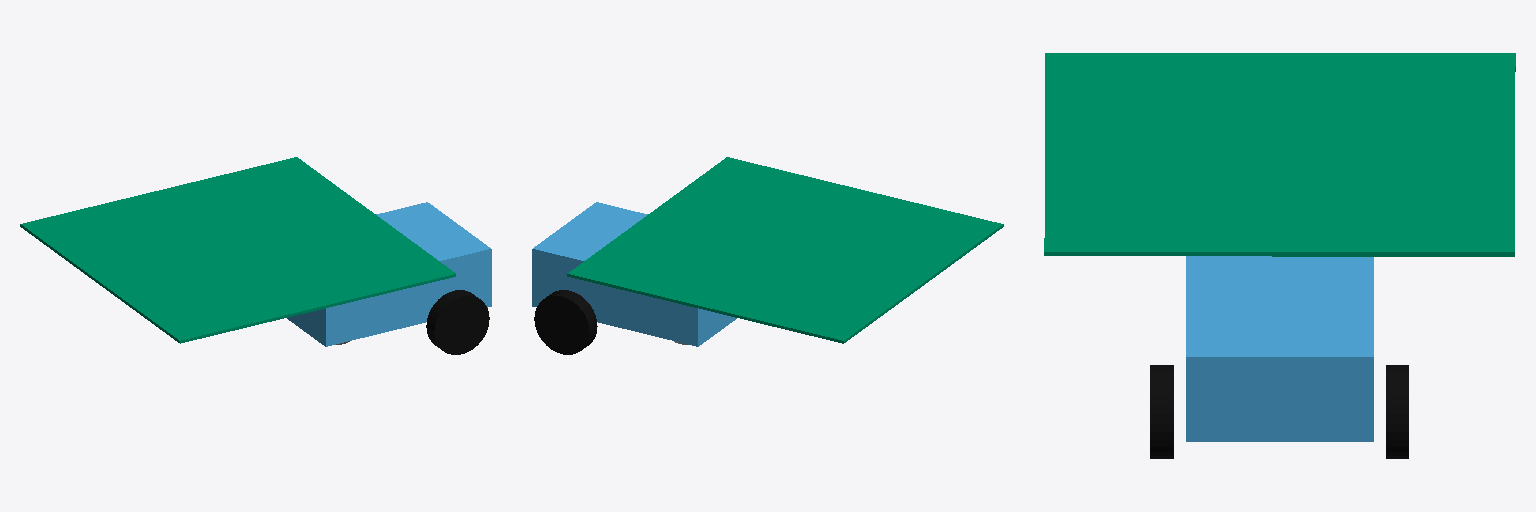
URDF robot description (simple_bot):
<?xml version="1.0"?>
<robot name="simple_bot" xmlns:xacro="http://ros.org/wiki/xacro">

  <!-- Materials -->
  <material name="red">
    <color rgba="0.6 0.0 0.0 1"/>
  </material>
  <material name="black">
    <color rgba="0.1 0.1 0.1 1"/>
  </material>
  <material name="grey">
    <color rgba="0.5 0.5 0.5 1"/>
  </material>

  <!-- Links -->
  <link name="aruco_base_descr"/>
  <link name="aruco_base_link">
  <visual>
    <geometry>
      <box size="0.6 0.4 0.2"/>
    </geometry>

    <origin xyz="0.0 0.0 0.0" rpy="0.0 0.0 0.0"/>
  </visual>

  <collision>
    <geometry>
      <box size="0.6 0.4 0.2"/>
    </geometry>
    <origin xyz="0.0 0.0 0.0" rpy="0.0 0.0 0"/>
  </collision>

  <inertial>
    <mass value="5.0"/>
    <origin xyz="0 0 0" rpy="0 0 0"/>
    <inertia 
      ixx="0.1" ixy="0.0" ixz="0.0"
      iyy="0.1" iyz="0.0"
      izz="0.1"/>
  </inertial>
</link>

<link name="aruco_marker_panel">
  <visual>
    <geometry>
      <box size="0.01 1 1"/> <!-- a thin square -->
    </geometry>
    <origin xyz="0.3 0.0 0.1" rpy="0 1.57 0"/> <!-- adjust side & rotation -->
  </visual>
</link>

<gazebo reference="aruco_marker_panel">
  <material>
    <script>
      <uri>file://[local-path]/rostasks/task3_part1/install/task3_part1_bot/share/task3_part1_bot/world/</uri>
      <name>aruco_marker_0</name>
    </script>
  </material>
</gazebo>

<joint name="aruco_marker_joint" type="fixed">
  <parent link="aruco_base_link"/>
  <child link="aruco_marker_panel"/>
  <origin xyz="0.2 0.0 0.1" rpy="0 0 0"/>
</joint>

  <link name="aruco_left_wheel">
    <visual>
      <geometry>
        <cylinder length="0.05" radius="0.1"/>
      </geometry>
      <origin xyz="0 0 0" rpy="0 0 0"/>
      <material name="black"/>
    </visual>
    <collision>
    <geometry>
      <cylinder radius="0.1" length="0.05"/>
    </geometry>
    <origin xyz="0.0 0.0 0.0" rpy="0.0 0.0 0"/>
  </collision>
  <inertial>
    <mass value="0.5"/>
    <origin xyz="0 0 0" rpy="0 0 0"/>
    <inertia 
      ixx="0.1" ixy="0.0" ixz="0.0"
      iyy="0.1" iyz="0.0"
      izz="0.1"/>
  </inertial>
  </link>

  <link name="aruco_right_wheel">
    <visual>
      <geometry>
        <cylinder length="0.05" radius="0.1"/>
      </geometry>
      <origin xyz="0 0 0" rpy="0.0 0 0"/>
      <material name="black"/>
    </visual>
    <collision>
    <geometry>
      <cylinder radius="0.1" length="0.05"/>
    </geometry>
    <origin xyz="0.0 0.0 0.0" rpy="0.0 0.0 0"/>
  </collision>

  <inertial>
    <mass value="2.0"/>
    <origin xyz="0 0 0" rpy="0 0 0"/>
    <inertia 
      ixx="0.1" ixy="0.0" ixz="0.0"
      iyy="0.1" iyz="0.0"
      izz="0.1"/>
  </inertial>
  </link>
  

  <link name="aruco_caster_wheel">
    <visual>
      <geometry>
        <sphere radius="0.1"/>
      </geometry>
      <material name="grey"/>
    </visual>
    <collision>
    
    <geometry>
      <sphere radius="0.1"/>
    </geometry>
  </collision>

  <inertial>
    <mass value="0.05"/>
    <origin xyz="0 0 0" rpy="0 0 0"/>
    <inertia 
      ixx="0.1" ixy="0.0" ixz="0.0"
      iyy="0.1" iyz="0.0"
      izz="0.1"/>
  </inertial>
  </link>

  <!-- Joints -->
  <joint name="aruco_left_wheel_joint" type="continuous">
    <parent link="aruco_base_link"/>
    <child link="aruco_left_wheel"/>
    <origin xyz="-0.15 0.25 -0.1" rpy="1.57 0 3.141"/>
    <axis xyz="0.0 0.0 1"/>
  </joint>

  <joint name="aruco_right_wheel_joint" type="continuous">
    <parent link="aruco_base_link"/>
    <child link="aruco_right_wheel"/>
    <origin xyz="-0.15 -0.25 -0.1" rpy="1.57 0 3.141"/>
    <axis xyz="0.0 0.0 1"/>
  </joint>

  <joint name="aruco_caster_wheel_joint" type="fixed">
  <parent link="aruco_base_link"/>
  <child link="aruco_caster_wheel"/>
  <origin xyz="0.15 0 -0.1" rpy="0 0 0.0"/>
  </joint>

  <joint name="aruco_base" type="fixed">
    <parent link="aruco_base_descr"/>
    <child link="aruco_base_link"/>
    <origin rpy="0.0 0.0 3.141"/>
  </joint>

  <gazebo reference="aruco_right_wheel">
  <material>Gazebo/Grey</material>
  <pose>0 0 0 0 0 0</pose>
  <mu1>0.5</mu1>
  <mu2>0.5</mu2>
  </gazebo>
  <gazebo reference="aruco_caster_wheel">
  <material>Gazebo/Grey</material>
  <mu1>0</mu1>
  <mu2>0</mu2>
  </gazebo>
  <gazebo reference="aruco_left_wheel">
  <material>Gazebo/Grey</material>
  <pose>0 0 0 0 0 0</pose>
  <mu1>0.5</mu1>
  <mu2>0.5</mu2>
  </gazebo>
  <gazebo reference="aruco_base_link">
  <material>Gazebo/Red</material>
  <pose>0 0 0 0 0 3.1416</pose>
  </gazebo>
  <gazebo>
  <plugin name="diff_drive_controller" filename="libgazebo_ros_diff_drive.so">
    <ros>
      <remapping>cmd_vel:=/cmd_vel</remapping>
    </ros>
    <update_rate>50.0</update_rate>
    <left_joint>aruco_left_wheel_joint</left_joint>
    <right_joint>aruco_right_wheel_joint</right_joint>
    <wheel_separation>0.5</wheel_separation>
    <wheel_diameter>0.3</wheel_diameter>
    <use_sim_time>true</use_sim_time>
    <command_topic>aruco/cmd_vel</command_topic>
    <publish_odom>true</publish_odom>
      <publish_odom_tf>true</publish_odom_tf>
      <publish_wheel_tf>false</publish_wheel_tf>
  <max_wheel_acceleration>20.0</max_wheel_acceleration>
    <odometry_topic>aruco/odom</odometry_topic>
    <odometry_frame>odom</odometry_frame>
    <robot_base_frame>aruco_base_link</robot_base_frame>
    <publish_tf>true</publish_tf>
  </plugin>
</gazebo>

</robot>

--- Facts derived from the render (not from the file) ---
The picture shows the robot from 3 angles, left to right: view 1: azimuth 30°, elevation 25°; view 2: azimuth 150°, elevation 25°; view 3: azimuth 270°, elevation 25°; orthographic projection.
Model simple_bot with 6 links and 5 joints (2 continuous, 3 fixed), rooted at aruco_base_descr, posed all joints at 0.
Visible links, largest first — view 1: aruco_marker_panel, aruco_base_link, aruco_left_wheel; view 2: aruco_marker_panel, aruco_base_link, aruco_right_wheel; view 3: aruco_marker_panel, aruco_base_link, aruco_left_wheel, aruco_right_wheel.
Link boxes in pixels (x1,y1,x2,y2): aruco_marker_panel: (20, 157, 455, 343); aruco_base_link: (287, 202, 491, 346); aruco_left_wheel: (426, 290, 489, 354); aruco_marker_panel: (567, 157, 1003, 343); aruco_base_link: (532, 202, 736, 346); aruco_right_wheel: (534, 290, 597, 354); aruco_marker_panel: (1044, 53, 1515, 256); aruco_base_link: (1186, 256, 1373, 441); aruco_left_wheel: (1150, 365, 1173, 458); aruco_right_wheel: (1386, 365, 1408, 458).
Bounding box of the posed robot: 1.3 × 1 × 0.4054 m (x, y, z).
Geometry: primitives only (box / cylinder / sphere), no mesh files.